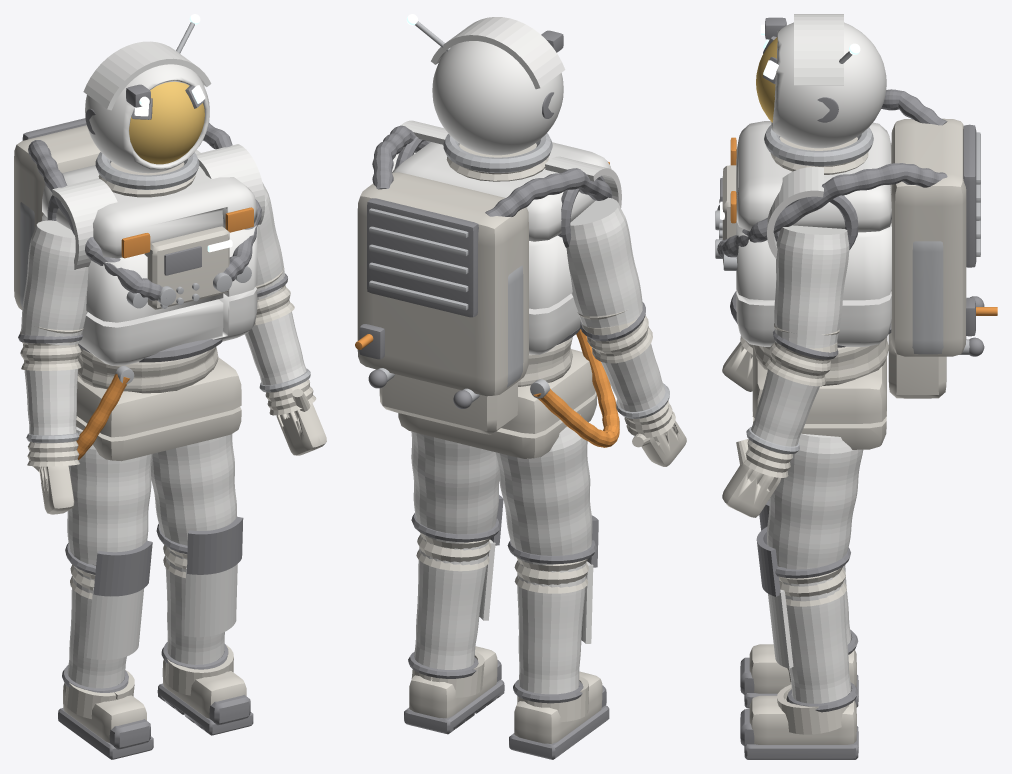
Rendered from astronaut.glb.
3 views of the same model, side by side, from view 1: azimuth 30°, elevation 25°; view 2: azimuth 150°, elevation 25°; view 3: azimuth 270°, elevation 25° (orthographic). The views are drawn at different scales.
Visible parts, largest first — view 1: hut, hips, thigh_-1, thigh_1, upper_arm_-1, helmet_shell, plss, visor_gold, dcu, lta, sun_brim, shin_guard (+34 smaller); view 2: plss, helmet_shell, hut, thigh_-1, thigh_1, sublimator, upper_arm_-1, shin_-1, shin_1, hips, plss_lta, sun_brim (+34 smaller); view 3: hut, plss, thigh_1, helmet_shell, upper_arm_1, shin_1, hips, hose_1, tank.001, sun_brim, forearm_1, boot_1 (+24 smaller).
Part boxes in pixels (x1,y1,x2,y2): hut: (42,150,257,365); hips: (76,357,241,461); thigh_-1: (67,427,152,564); thigh_1: (151,434,236,545); upper_arm_-1: (21,220,88,345); helmet_shell: (85,64,209,173); plss: (14,125,100,309); visor_gold: (129,81,204,164); dcu: (144,226,229,309); lta: (78,347,218,393); sun_brim: (83,41,211,110); shin_guard: (86,588,143,659); plss: (357,172,528,396); helmet_shell: (432,41,563,155); hut: (392,142,611,354); thigh_-1: (495,414,592,565); thigh_1: (411,431,499,543); sublimator: (367,198,478,317); upper_arm_-1: (566,197,642,327); shin_-1: (517,560,586,694); shin_1: (414,534,488,669); hips: (398,349,596,458); plss_lta: (379,374,517,434); sun_brim: (431,17,565,89); hut: (736,121,891,346); plss: (891,118,966,356); thigh_1: (767,433,863,569); helmet_shell: (771,22,886,148); upper_arm_1: (774,225,849,348); shin_1: (779,571,851,703); hips: (752,345,886,449); hose_1: (717,163,947,258); tank.001: (912,241,943,354); sun_brim: (794,14,843,85); forearm_1: (751,369,819,446); boot_1: (749,695,856,744).
Bounding box in the file's own units: 0.8314 × 1.89 × 0.6788.
